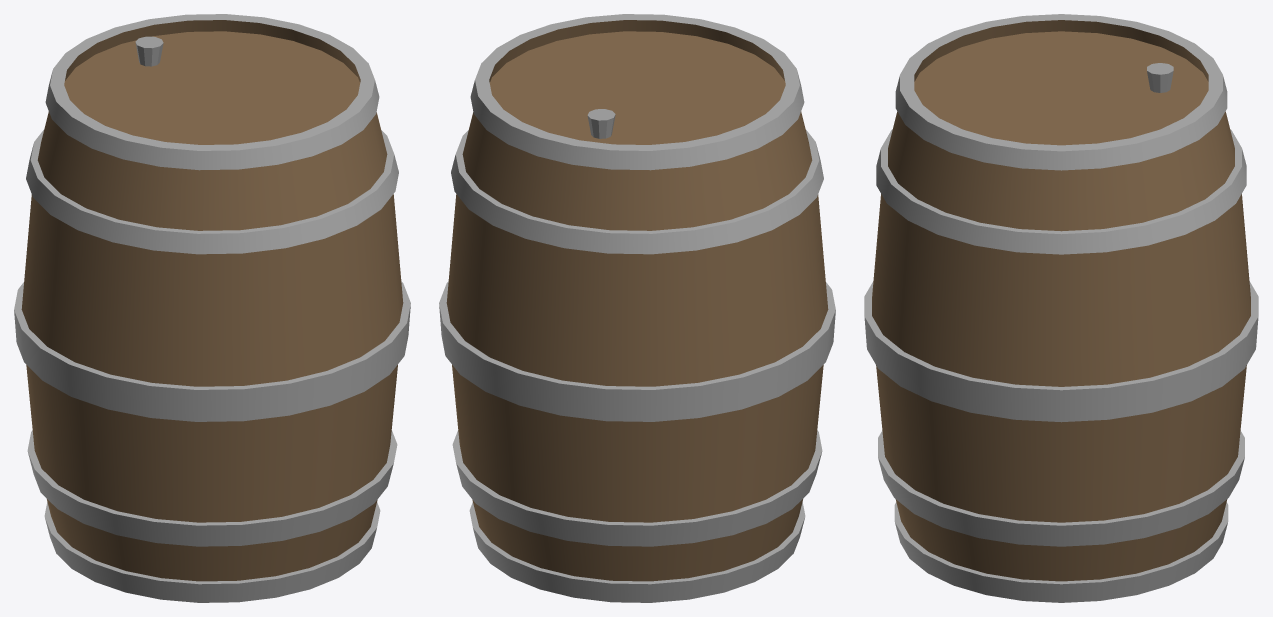
The model's file is Barrel.fbx.
3 renders of one model, left to right at view 1: azimuth 30°, elevation 25°; view 2: azimuth 150°, elevation 25°; view 3: azimuth 270°, elevation 25°, orthographic.
Parts seen in each view (by area): view 1: pCylinder1, pCylinder7; view 2: pCylinder1, pCylinder7; view 3: pCylinder1, pCylinder7.
Part boxes in pixels (<box>): pCylinder1: <box>14,14,410,602</box>; pCylinder7: <box>135,36,163,66</box>; pCylinder1: <box>439,14,835,602</box>; pCylinder7: <box>587,109,615,138</box>; pCylinder1: <box>864,14,1258,602</box>; pCylinder7: <box>1147,63,1173,92</box>.
Bounding box in the file's own units: 7.03 × 8.97 × 6.98.
